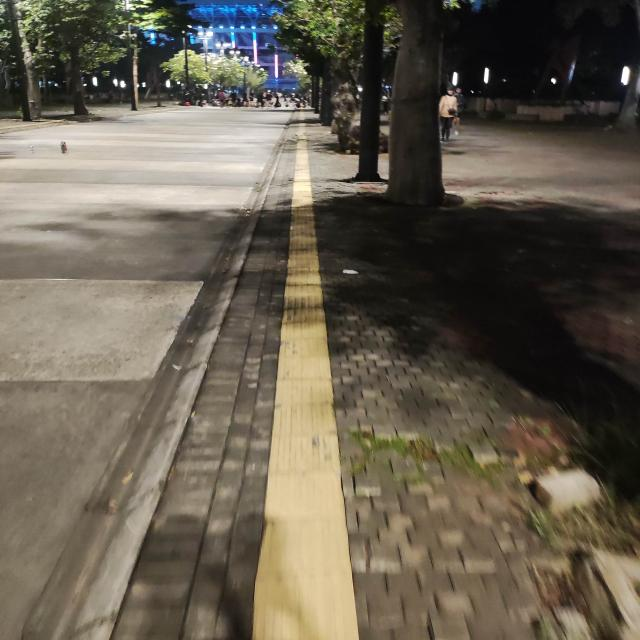lurus: (267, 205, 353, 627)
